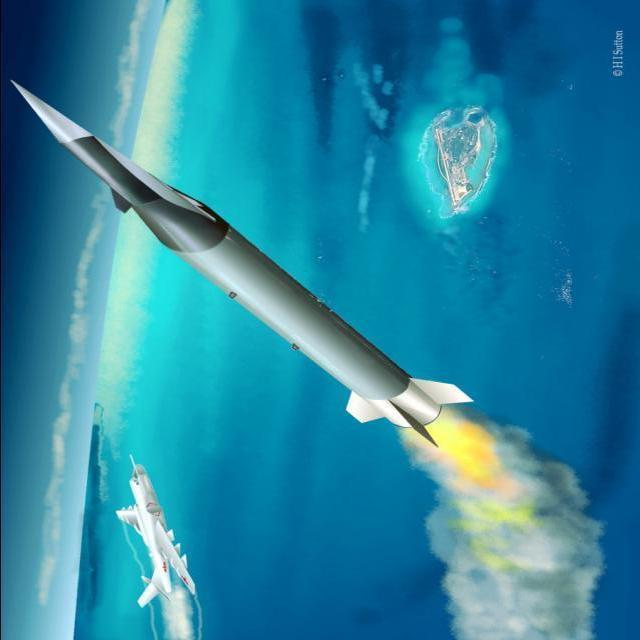missile: (10, 80, 464, 443)
